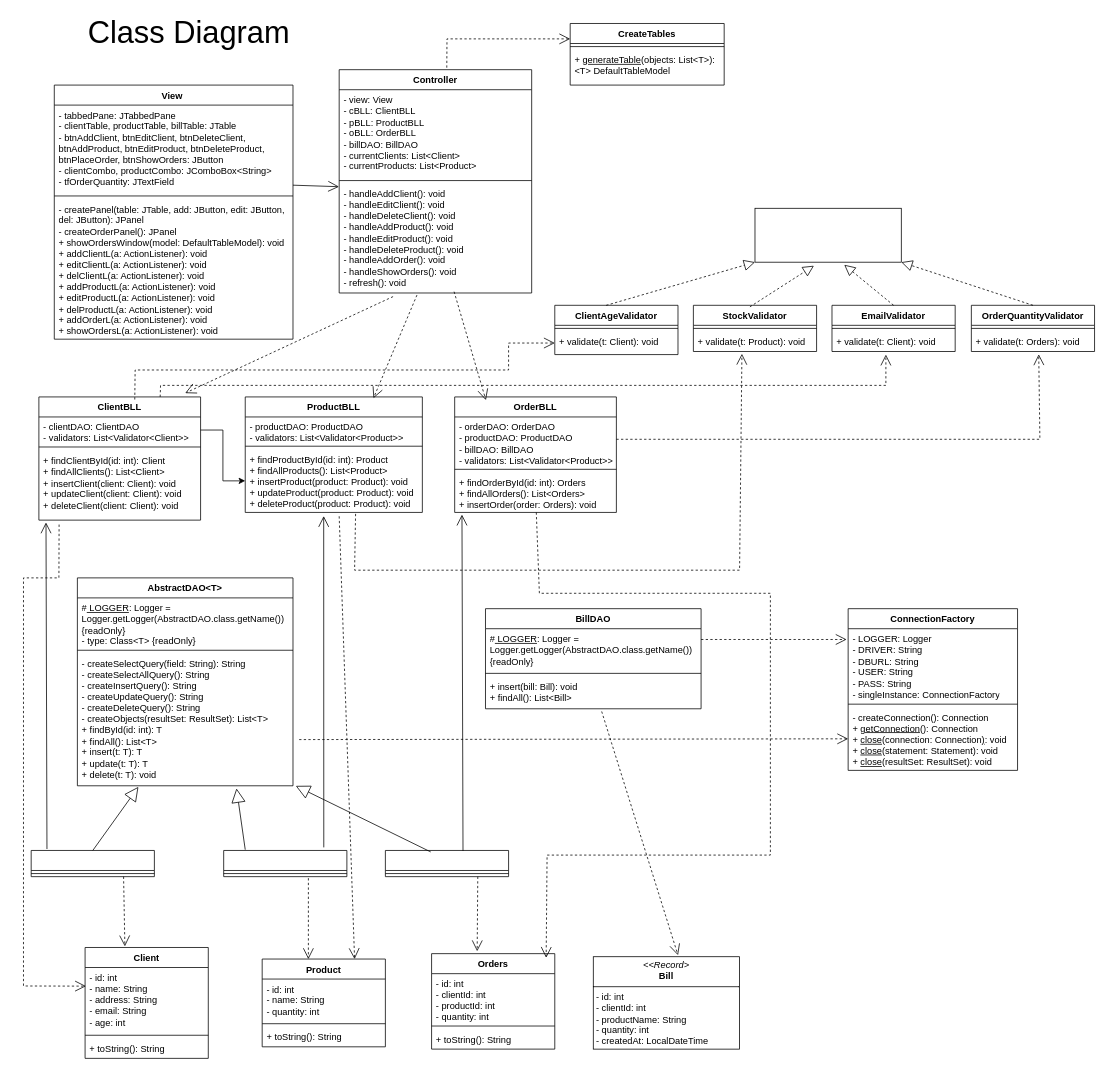
Image size: 1108x1074. Some labels were removed from this diagram. Each missing label, with the centre of its shape:
<<Interface>> Validator<T> + validate(t: T): point 827,235
ClientDAO: point 92,863
OrderDAO: point 447,863
ProductDAO: point 285,863
